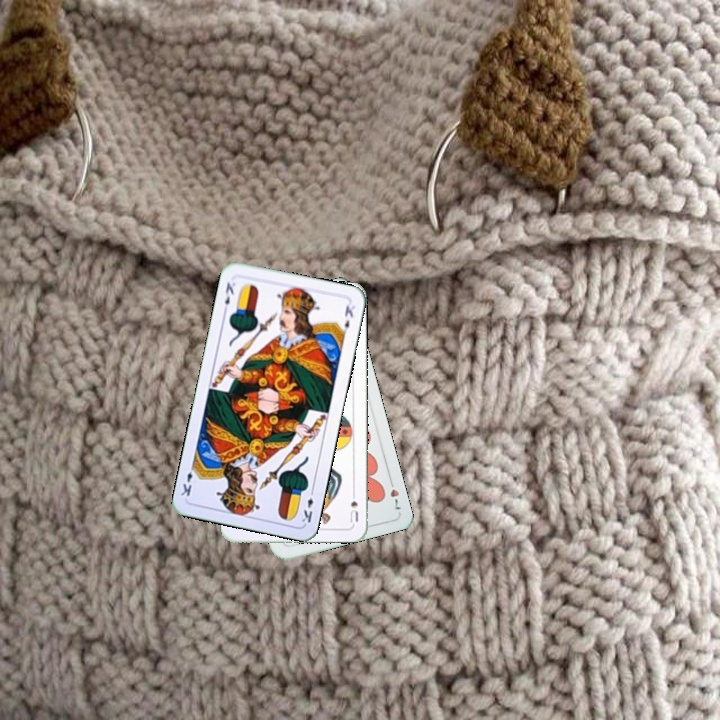EK: (297, 485, 317, 525), (219, 278, 238, 315)
H7: (385, 474, 404, 513)
SU: (346, 485, 360, 525)
